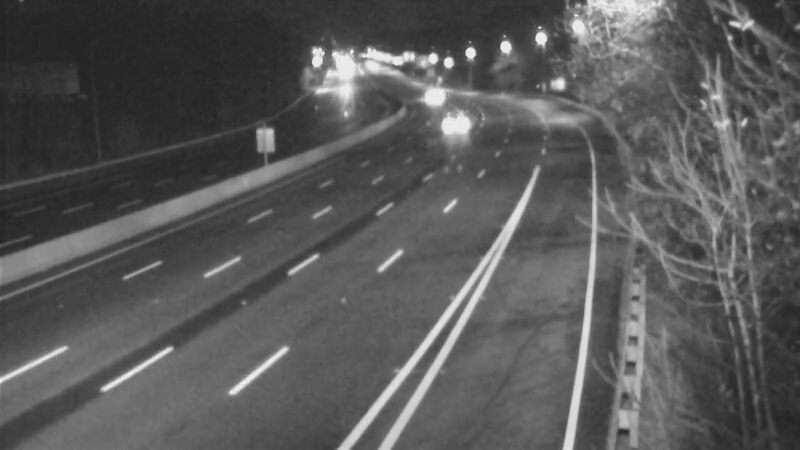vehicle: (402, 70, 452, 120), (422, 103, 472, 153)
